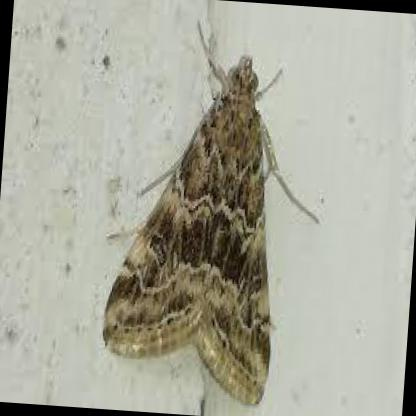Hellula undalis: (96, 15, 291, 404)
